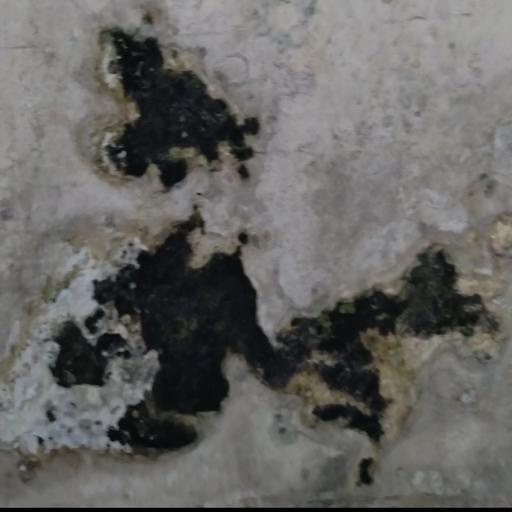algae: (44, 11, 506, 469)
